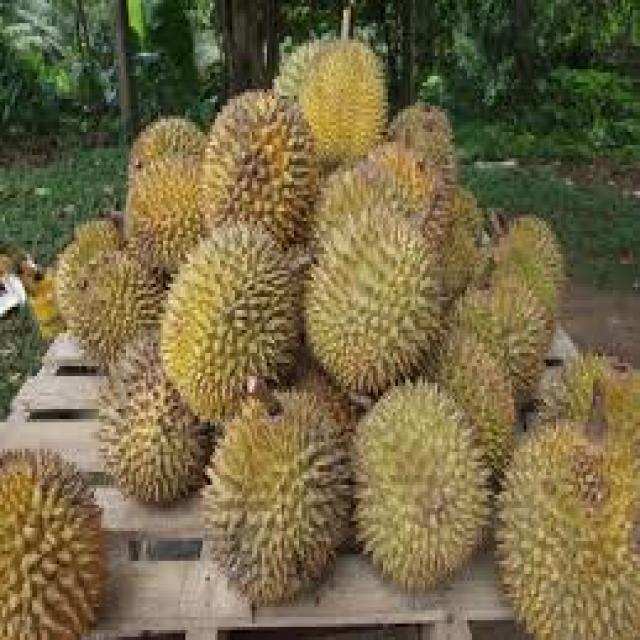mature: (204, 392, 351, 603), (99, 330, 218, 505), (201, 90, 318, 249)
